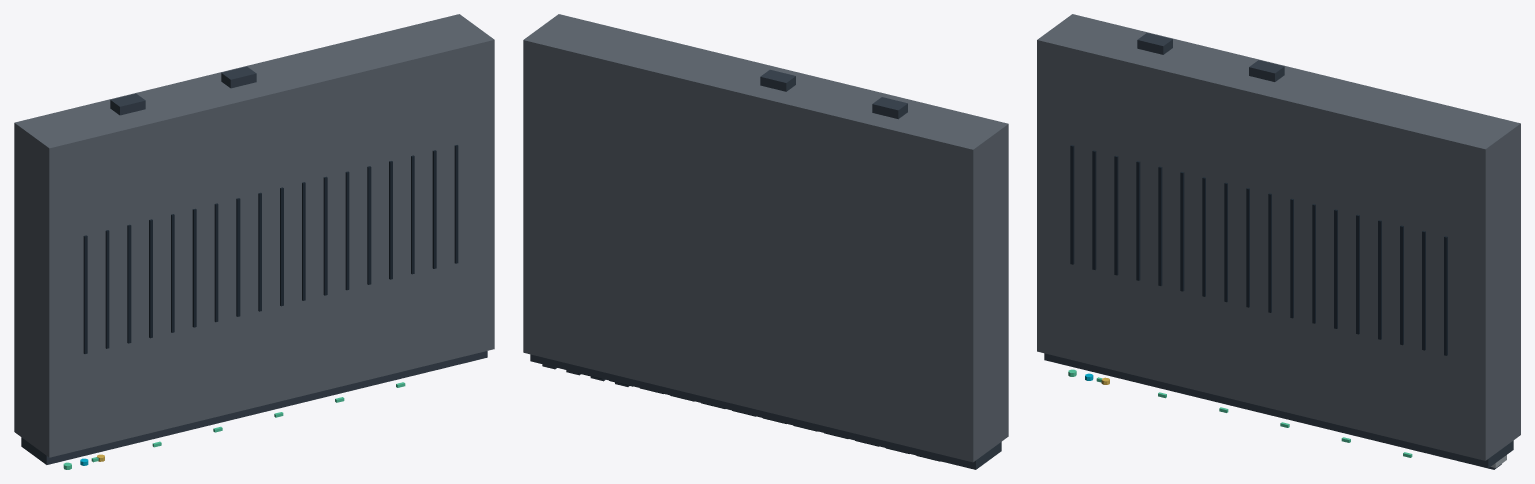
File: router_enterprise.glb
3 views of the same model, side by side, from view 1: azimuth 30°, elevation 25°; view 2: azimuth 150°, elevation 25°; view 3: azimuth 330°, elevation 25° (orthographic).
Parts seen in each view (by area): view 1: 000_router chassis, 001_front fascia, 052_top ventilation slot 13, 045_top ventilation slot 6, 046_top ventilation slot 7, 051_top ventilation slot 12, 040_top ventilation slot 1, 042_top ventilation slot 3, 047_top ventilation slot 8, 053_top ventilation slot 14, 056_top ventilation slot 17, 057_top ventilation slot 18 (+3 smaller); view 2: 000_router chassis, 001_front fascia, 062_rear power inlet 2, 061_rear power inlet 1; view 3: 000_router chassis, 001_front fascia, 042_top ventilation slot 3, 043_top ventilation slot 4, 045_top ventilation slot 6, 040_top ventilation slot 1, 041_top ventilation slot 2, 044_top ventilation slot 5, 062_rear power inlet 2, 061_rear power inlet 1.
Boxes of the visible parts, x1,y1,x2,y2 form: 000_router chassis: [14, 14, 494, 457]; 001_front fascia: [21, 351, 487, 464]; 052_top ventilation slot 13: [345, 171, 349, 290]; 045_top ventilation slot 6: [192, 208, 196, 327]; 046_top ventilation slot 7: [214, 203, 218, 322]; 051_top ventilation slot 12: [323, 176, 327, 295]; 040_top ventilation slot 1: [83, 235, 87, 353]; 042_top ventilation slot 3: [127, 224, 131, 343]; 047_top ventilation slot 8: [236, 198, 240, 316]; 053_top ventilation slot 14: [367, 166, 371, 284]; 056_top ventilation slot 17: [432, 150, 436, 268]; 057_top ventilation slot 18: [454, 145, 458, 263]; 000_router chassis: [523, 14, 1008, 462]; 001_front fascia: [530, 354, 1001, 469]; 062_rear power inlet 2: [760, 69, 795, 91]; 061_rear power inlet 1: [872, 97, 907, 119]; 000_router chassis: [1037, 14, 1520, 460]; 001_front fascia: [1044, 353, 1513, 468]; 042_top ventilation slot 3: [1114, 155, 1118, 275]; 043_top ventilation slot 4: [1136, 161, 1140, 280]; 045_top ventilation slot 6: [1180, 172, 1184, 291]; 040_top ventilation slot 1: [1070, 145, 1074, 264]; 041_top ventilation slot 2: [1092, 150, 1096, 269]; 044_top ventilation slot 5: [1158, 166, 1162, 285]; 062_rear power inlet 2: [1249, 60, 1284, 81]; 061_rear power inlet 1: [1137, 33, 1172, 54].
Size of the model in its own units: 0.482 by 0.3545 by 0.068.
